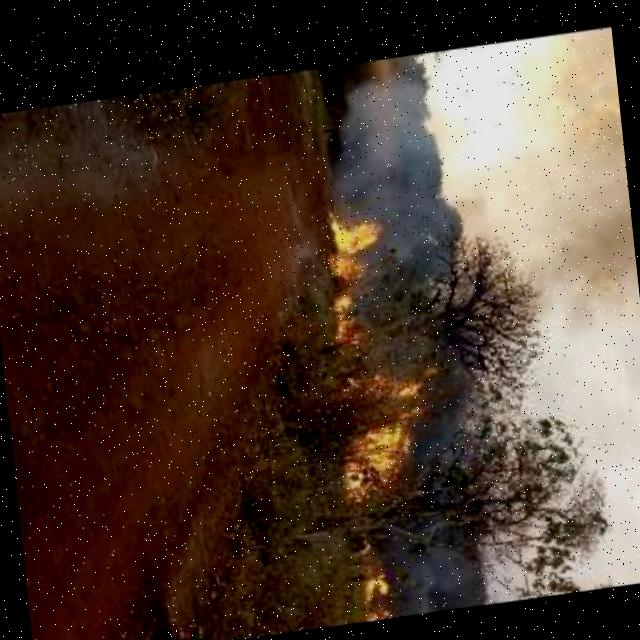fire: (322, 359, 442, 502), (318, 210, 384, 278), (325, 288, 365, 348), (356, 562, 389, 599)
